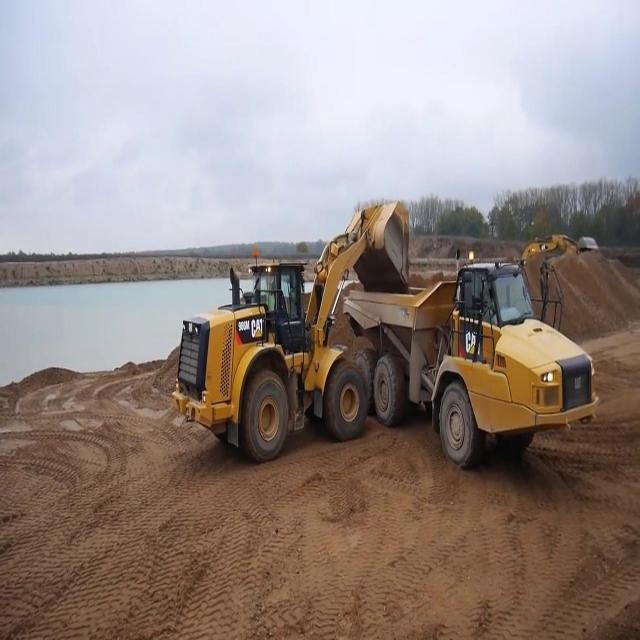Dump Truck: (342, 245, 598, 471)
Excavator: (517, 231, 578, 265)
Loader: (168, 198, 412, 468)
